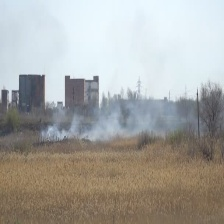smoke: (42, 102, 175, 143)
